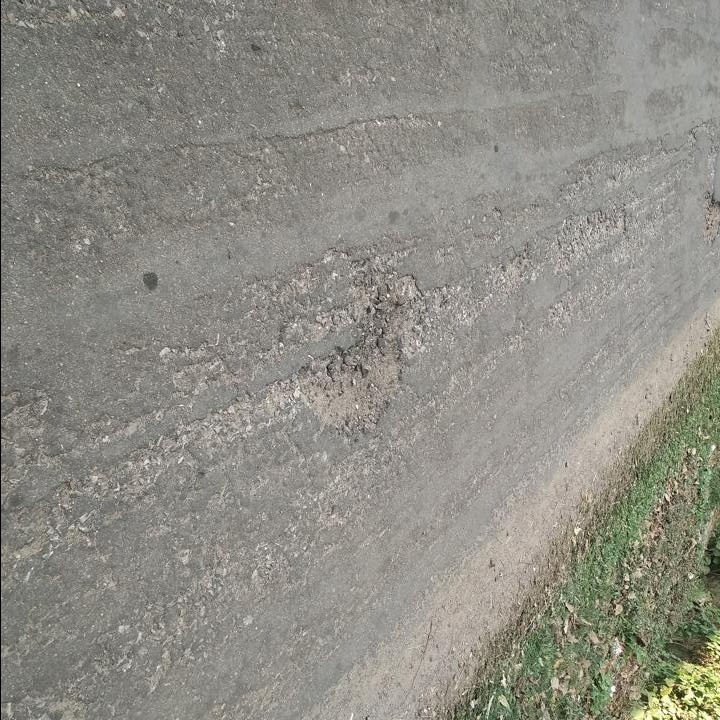pothole: (294, 325, 408, 434)
